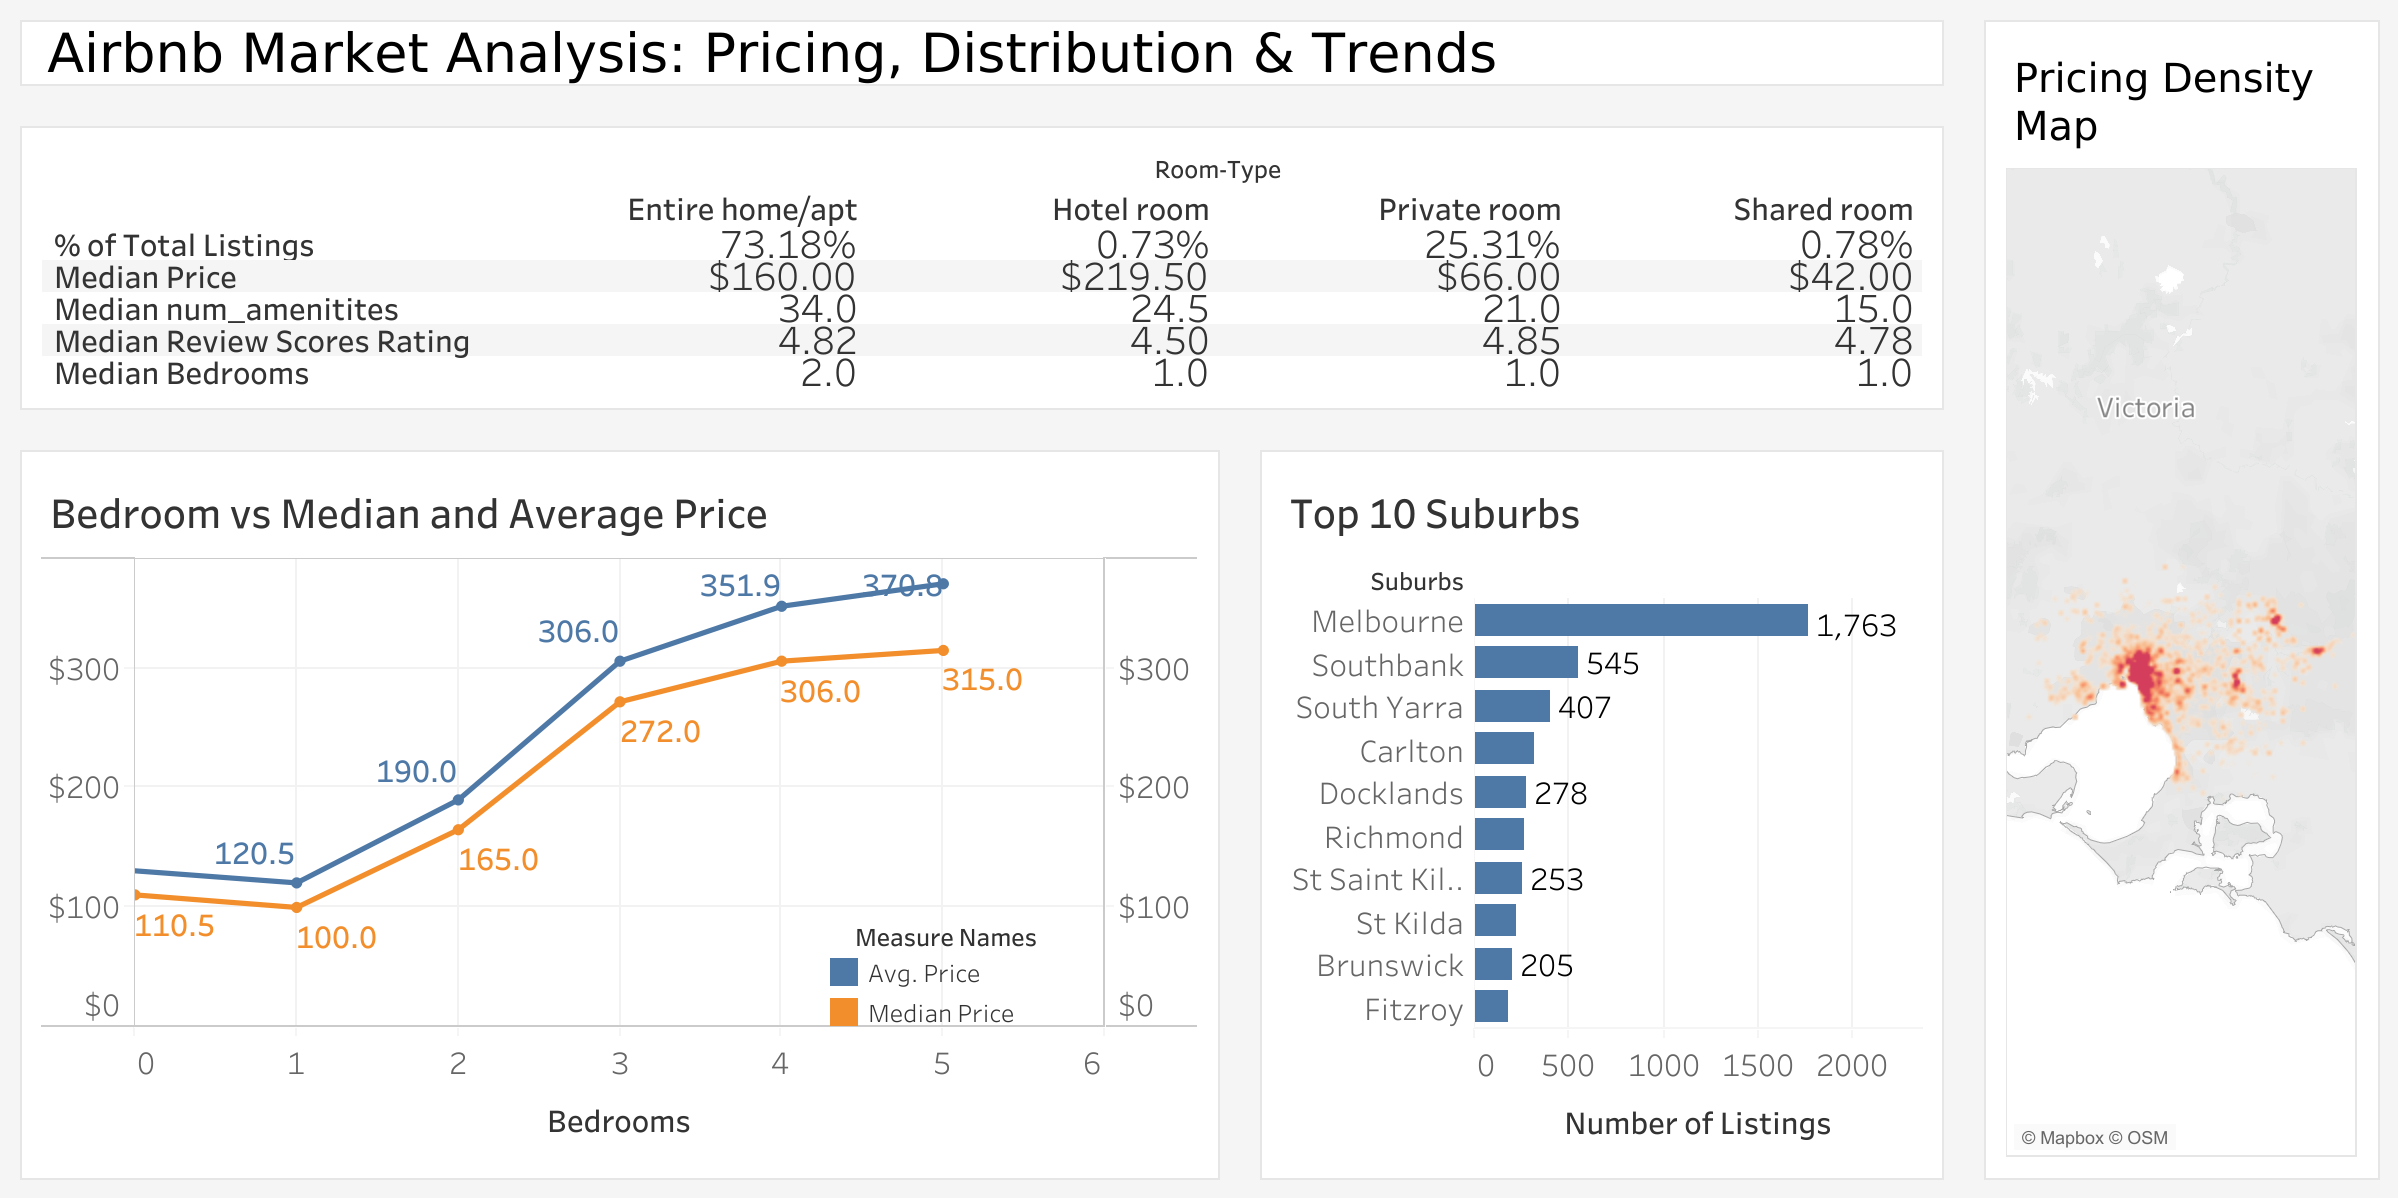

This screenshot's page, from the dashboard's own definition file:
{"tool":"tableau","page":{"name":"Dashboard 1","canvas":[1200,600],"ordinal":0},"visuals":[{"type":"text","box":[0,0,982,52]},{"type":"worksheet","title":"Map","mark":"Heatmap","rows":["latitude"],"cols":["longitude"],"box":[982,0,218,600]},{"type":"worksheet","title":"Text","mark":"Automatic","cols":["Calculation_5770096328108847104"],"box":[0,52,982,162]},{"type":"worksheet","title":"Bedrooms - Median/AVG Price","mark":"Automatic","rows":["price","price"],"cols":["bedrooms"],"box":[0,214,620,386]},{"type":"worksheet","title":"Top Suburbs","mark":"Automatic","rows":["Calculation_4928275040374362113"],"cols":["id"],"box":[620,214,362,386]},{"type":"legend","title":"Bedrooms - Median/AVG Price","param":"[federated.0daohro098bw9716mmy6e0v953uq].[:Measure Names]","box":[412,457,120,57]}]}

Visuals, with their boxes in screenshot pixels (x1, y1, x2, y2), scaled from the page's 1200x600 canvas onto the 2398x1198 screenshot:
text: bbox(0, 0, 1962, 104)
"Map" worksheet (Heatmap marks): bbox(1962, 0, 2397, 1197)
"Text" worksheet: bbox(0, 104, 1962, 427)
"Bedrooms - Median/AVG Price" worksheet: bbox(0, 427, 1239, 1197)
"Top Suburbs" worksheet: bbox(1239, 427, 1962, 1197)
"Bedrooms - Median/AVG Price" legend: bbox(823, 912, 1063, 1026)
